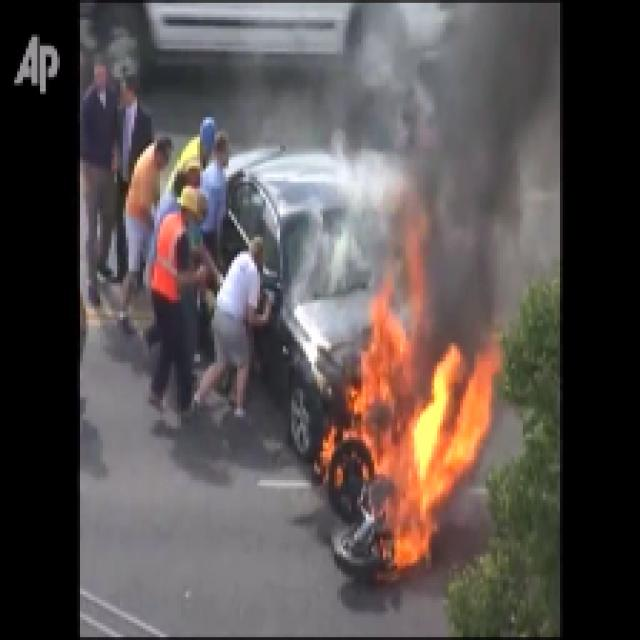fire: (342, 359, 474, 566)
smoke: (418, 0, 529, 335)
